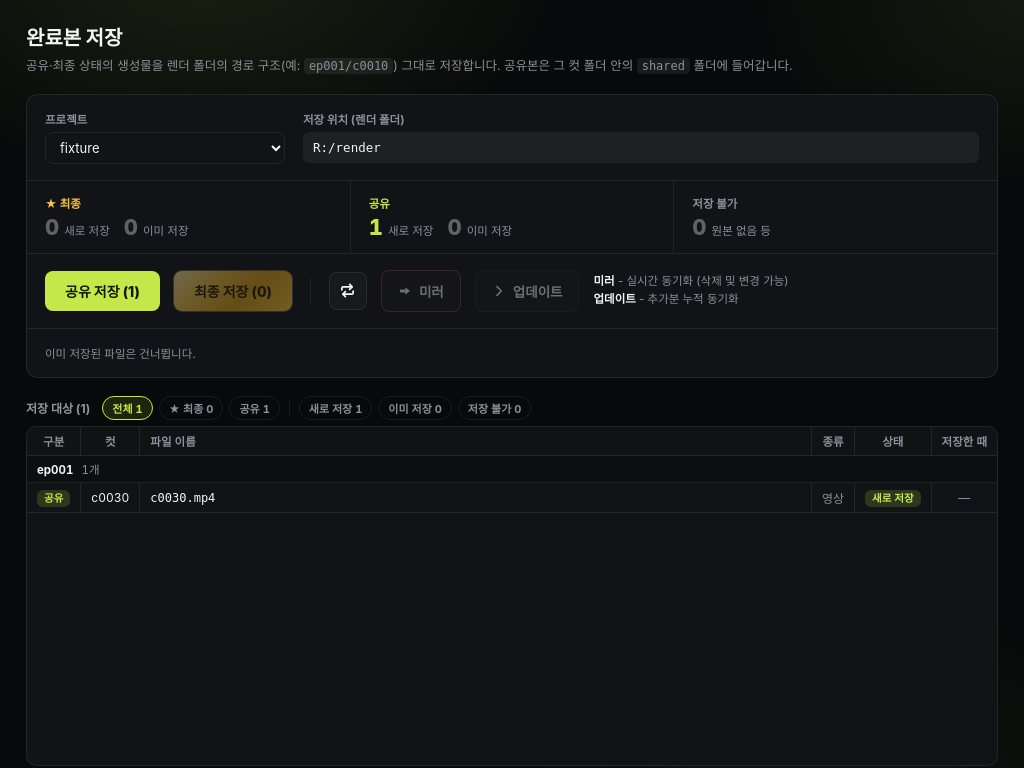
Test: 취소 요청이 실패하면 알리고 단추를 되돌린다 — 다시 누르면 다시 보낸다
Click the button "공유 저장 (1)": (102, 291) [45,271,160,311]
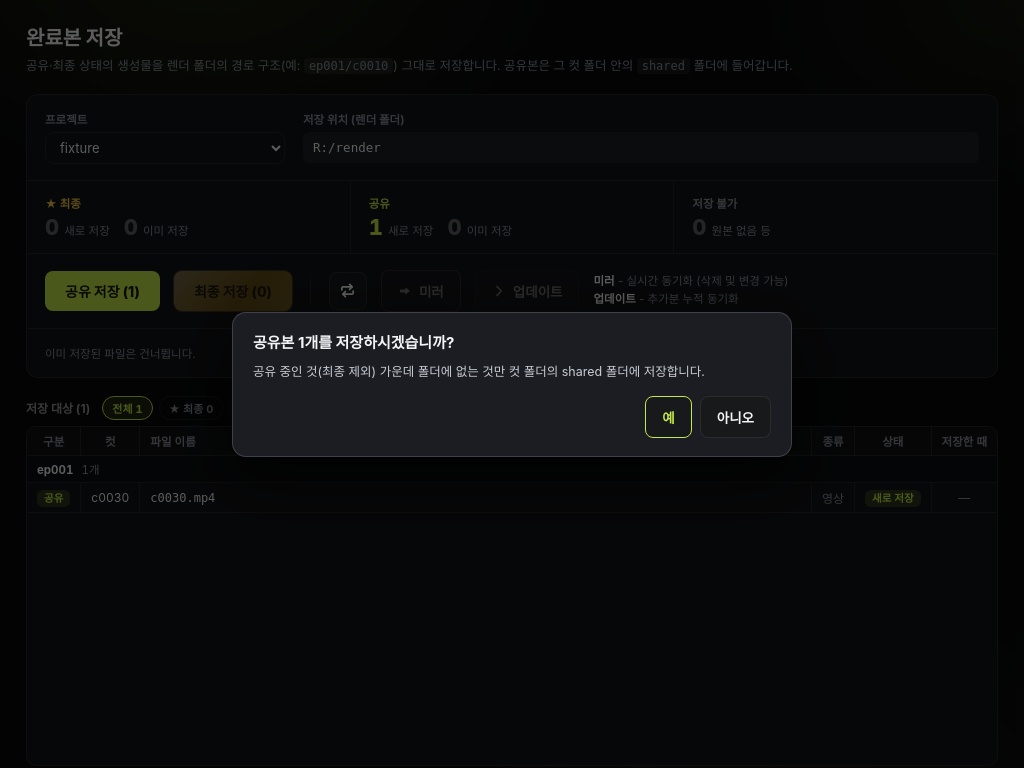
Click the button "예": (668, 416) [645,396,692,438]
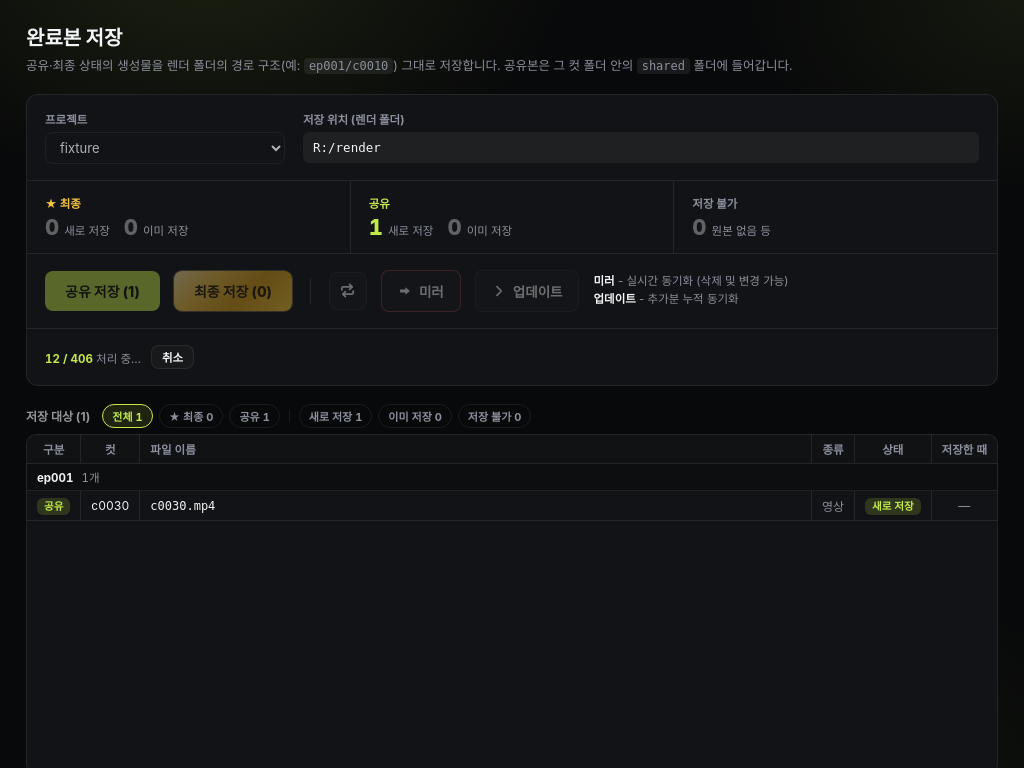
Click the button with class "export-cancel": (173, 357) [151,345,194,369]
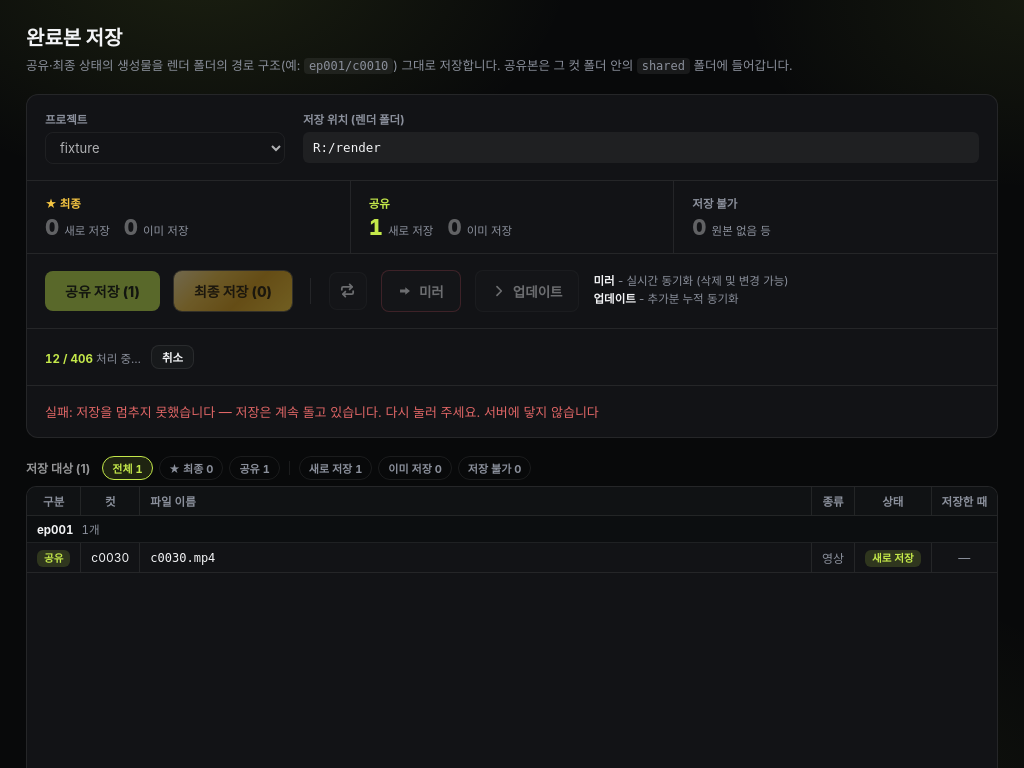
Expected: the text with class "export-err" shows "저장을 멈추지 못했습니다 — 저장은 계속 돌고 있습니다. 다시 눌러 주세요. 서버에 닿지 않습니다", [76,404,599,420]
Click the button with class "export-cancel": (173, 357) [151,345,194,369]
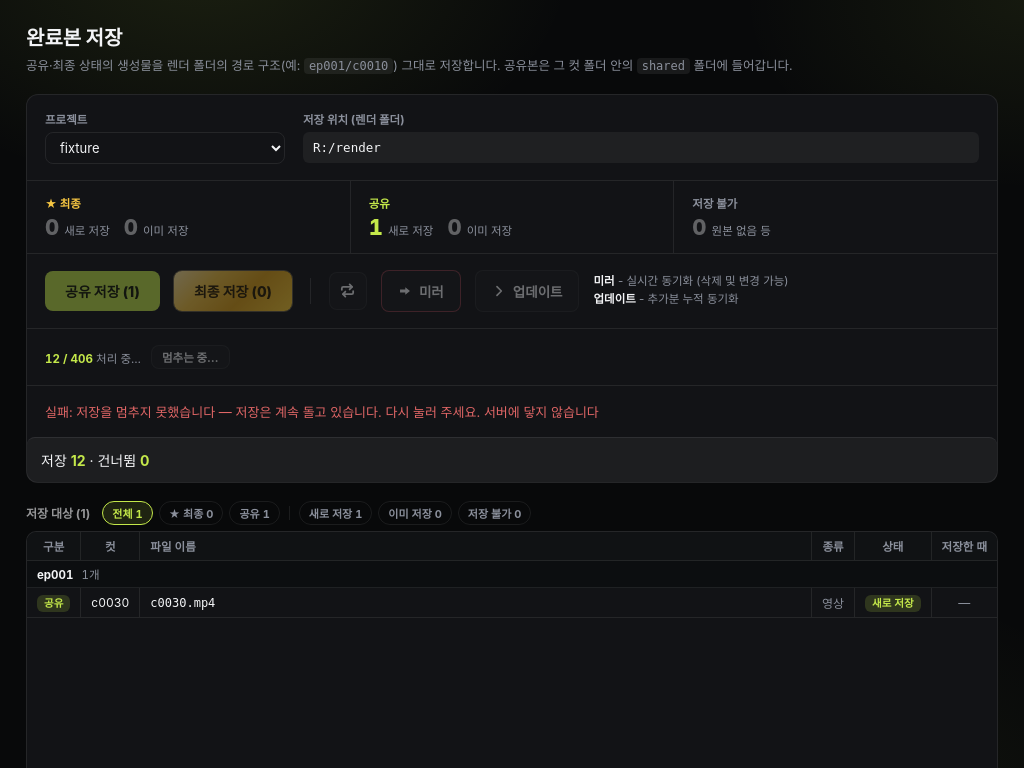
Expected: the button with class "export-cancel" reads "멈추는 중…", [151,345,230,369]
